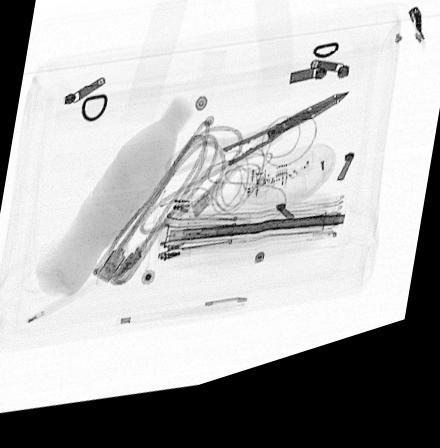Scissors: (162, 112, 351, 229)
